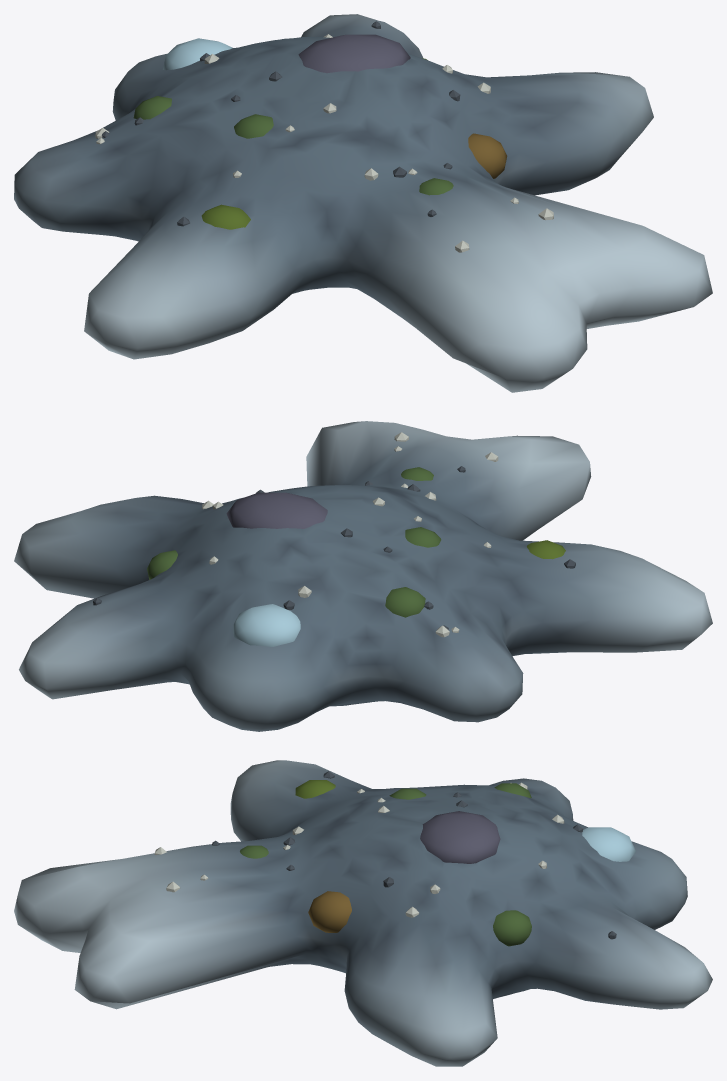
Rendered from Amoeba.fbx.
The picture shows the model from 3 angles, top to bottom: view 1: azimuth 30°, elevation 25°; view 2: azimuth 150°, elevation 25°; view 3: azimuth 270°, elevation 25°; orthographic projection. The views are drawn at different scales.
Parts seen in each view (by area): view 1: Amoeba; view 2: Amoeba; view 3: Amoeba.
Boxes of the visible parts, <box> form: Amoeba: <box>14,14,712,392</box>; Amoeba: <box>14,421,712,731</box>; Amoeba: <box>14,760,712,1066</box>.
Bounding box in the file's own units: 1.45 × 0.4295 × 1.54.
